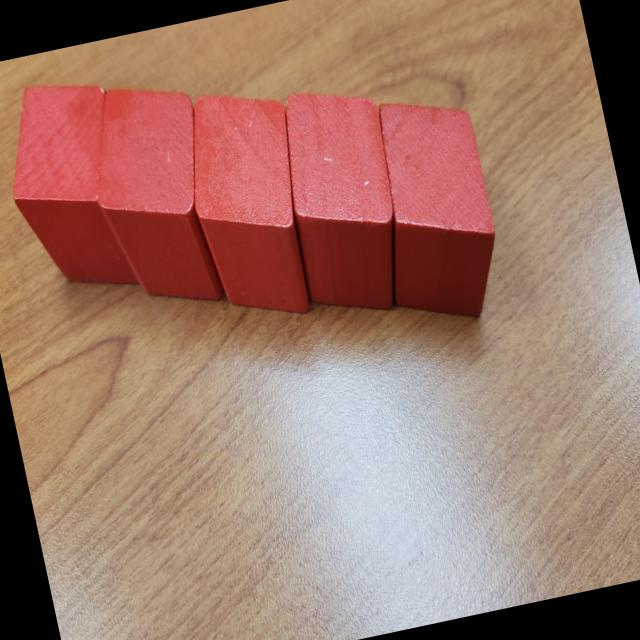red: (171, 76, 328, 332), (352, 86, 511, 336), (75, 73, 234, 321), (265, 76, 419, 326), (0, 71, 149, 308)
